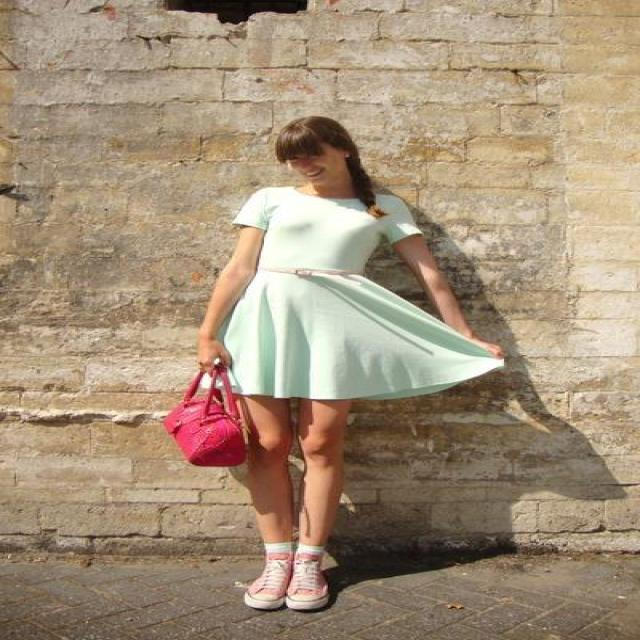bag: (148, 380, 266, 466)
dress: (224, 187, 502, 398)
shoe: (236, 564, 326, 608)
